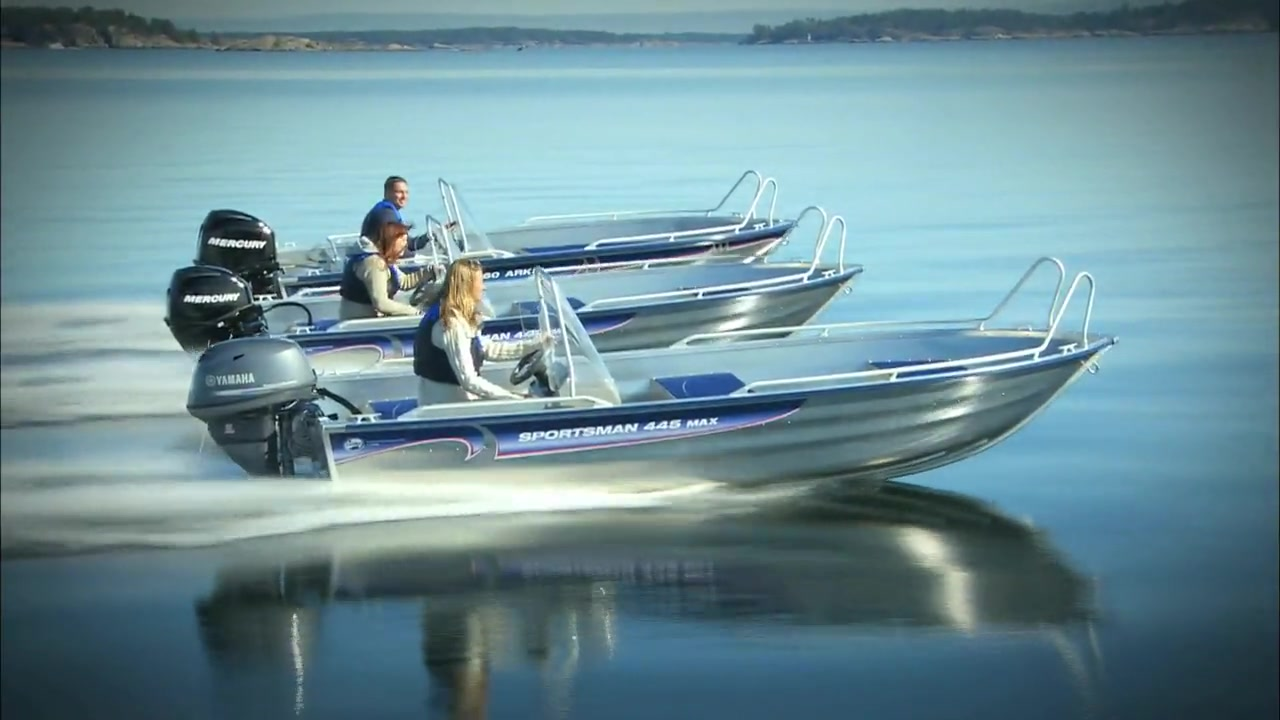boat: (182, 253, 1138, 508)
